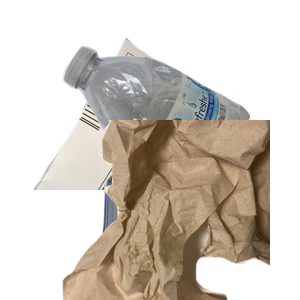glass: (98, 168, 251, 300)
paper: (31, 35, 271, 215)
plastic: (60, 44, 300, 224)
trash: (60, 120, 300, 300)
